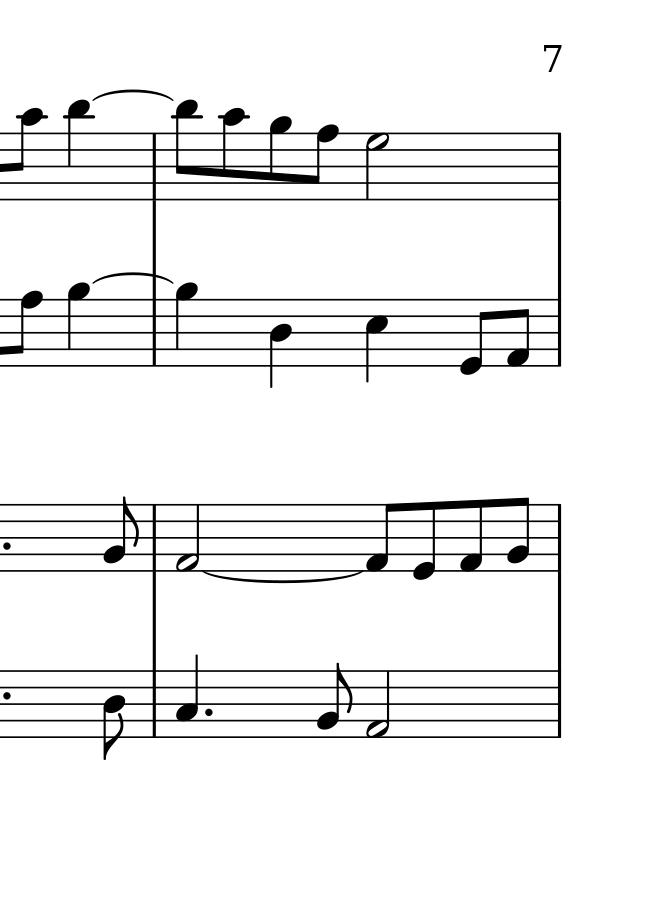2_1: (173, 503, 203, 573), (365, 669, 391, 739)
2_7: (364, 131, 389, 202)
4_3: (174, 655, 199, 738)
4_4: (269, 299, 293, 388)
4_5: (364, 297, 388, 386)
4_9: (66, 279, 89, 369), (174, 281, 198, 367)
7: (541, 40, 564, 72)
8_0: (459, 299, 491, 377), (411, 500, 438, 582)
8_1: (364, 502, 398, 573), (457, 497, 484, 574), (505, 298, 532, 370)
8_10: (12, 106, 44, 200), (221, 107, 247, 202)
8_11: (65, 96, 92, 203), (174, 98, 201, 200)
8_2: (316, 661, 352, 738), (103, 497, 139, 571), (505, 496, 531, 573)
8_4: (102, 669, 127, 763)
8_8: (11, 288, 43, 367), (307, 123, 338, 203)
8_9: (268, 115, 292, 201)
Single_barline: (145, 133, 163, 201), (146, 299, 164, 365), (145, 505, 162, 572), (551, 133, 567, 199), (551, 672, 567, 736), (146, 671, 161, 736), (552, 504, 566, 572), (552, 300, 566, 367)
Slur: (203, 570, 365, 583), (91, 90, 173, 102)
dot: (202, 705, 214, 718)
